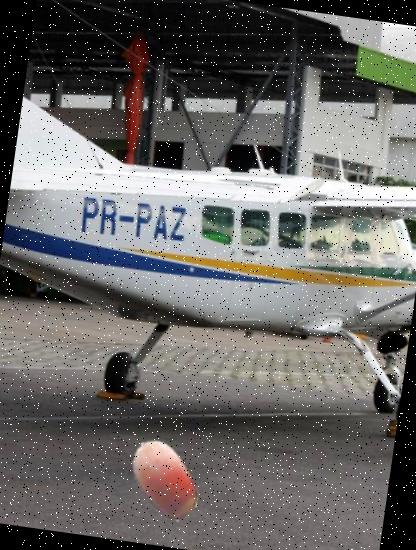Hazelnut: (118, 430, 213, 526)
